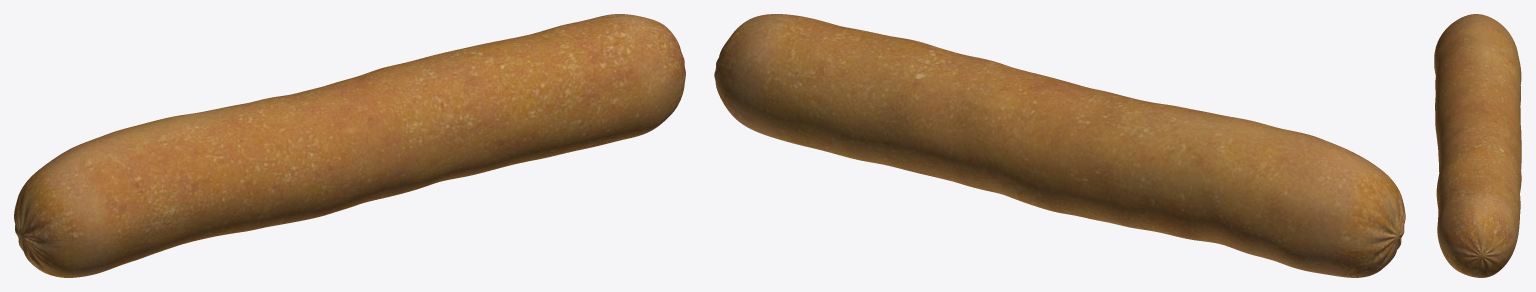
The model's file is SausageShort.obj.
3 renders of one model, left to right at view 1: azimuth 30°, elevation 25°; view 2: azimuth 150°, elevation 25°; view 3: azimuth 270°, elevation 25°, orthographic. The views are drawn at different scales.
Parts seen in each view (by area): view 1: SausageShort; view 2: SausageShort; view 3: SausageShort.
Boxes of the visible parts, <box> form: SausageShort: <box>14,14,685,277</box>; SausageShort: <box>714,14,1405,277</box>; SausageShort: <box>1434,14,1521,277</box>.
Bounding box in the file's own units: 0.174 × 0.0305 × 0.0293.
Materials: 1 (1 with a texture image).
